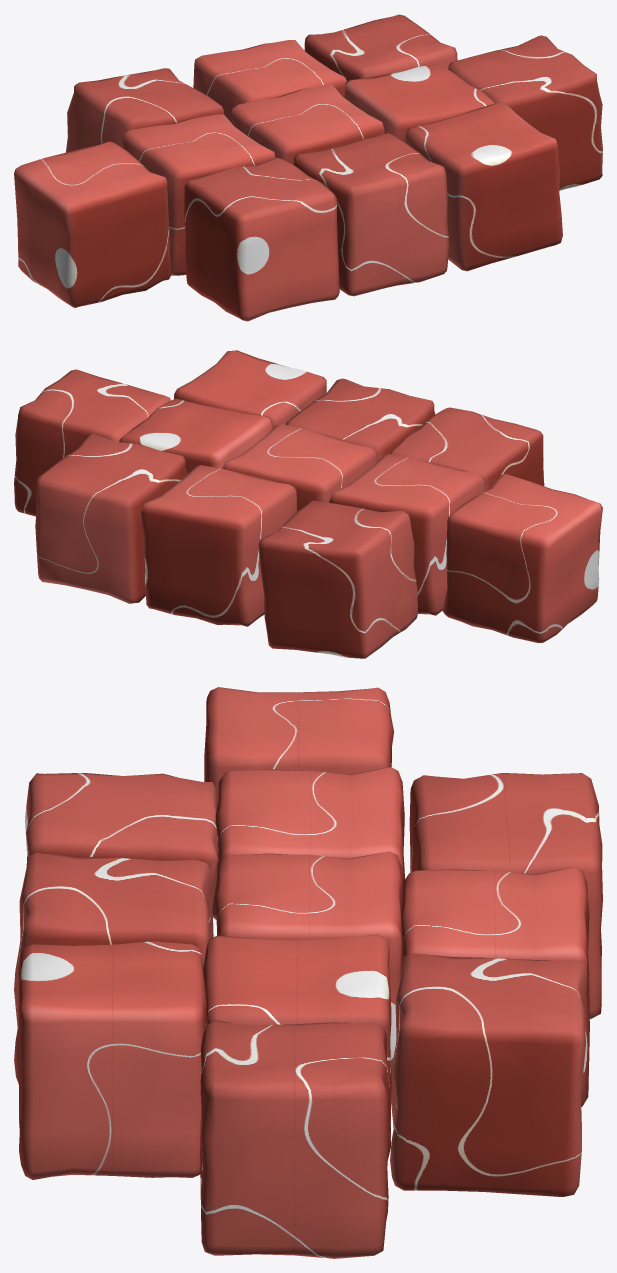
Rendered from dagingpotong.fbx.
3 views of the same model, one above another, from view 1: azimuth 30°, elevation 25°; view 2: azimuth 150°, elevation 25°; view 3: azimuth 270°, elevation 25° (orthographic). The views are drawn at different scales.
Visible parts, largest first — view 1: Cube.009, Cube.005, Cube.007, Cube.006, Cube.010, Cube.001, Cube.002, Cube, Cube.003, Cube.004, Cube.008; view 2: Cube.009, Cube.002, Cube.003, Cube.008, Cube.010, Cube.001, Cube.005, Cube, Cube.007, Cube.006, Cube.004; view 3: Cube.008, Cube.010, Cube.007, Cube.002, Cube.003, Cube.006, Cube, Cube.004, Cube.005, Cube.001, Cube.009.
Part boxes in pixels (box(x1,y1,x2,y2)): Cube.009: box(14, 141, 171, 307); Cube.005: box(184, 157, 339, 321); Cube.007: box(405, 102, 562, 271); Cube.006: box(293, 133, 448, 296); Cube.010: box(448, 35, 602, 190); Cube.001: box(122, 114, 275, 275); Cube.002: box(66, 68, 223, 152); Cube: box(231, 84, 384, 164); Cube.003: box(193, 40, 346, 122); Cube.004: box(344, 64, 494, 142); Cube.008: box(304, 14, 457, 81); Cube.009: box(442, 474, 602, 643); Cube.002: box(258, 500, 417, 658); Cube.003: box(141, 465, 297, 626); Cube.008: box(35, 434, 187, 603); Cube.010: box(14, 369, 170, 516); Cube.001: box(329, 454, 484, 615); Cube.005: box(390, 407, 544, 491); Cube: box(222, 424, 377, 510); Cube.007: box(174, 350, 326, 428); Cube.006: box(286, 378, 435, 461); Cube.004: box(119, 398, 272, 473); Cube.008: box(390, 953, 587, 1196); Cube.010: box(200, 1020, 390, 1258); Cube.007: box(18, 941, 206, 1179); Cube.002: box(409, 773, 602, 1019); Cube.003: box(401, 867, 589, 1106); Cube.006: box(14, 853, 211, 1084); Cube: box(214, 851, 402, 1069); Cube.004: box(203, 934, 391, 1160); Cube.005: box(25, 773, 217, 939); Cube.001: box(215, 767, 404, 890); Cube.009: box(204, 687, 393, 919).
Size of the model in its own units: 48.42 by 10.05 by 28.99.
1 material, 1 textured.
